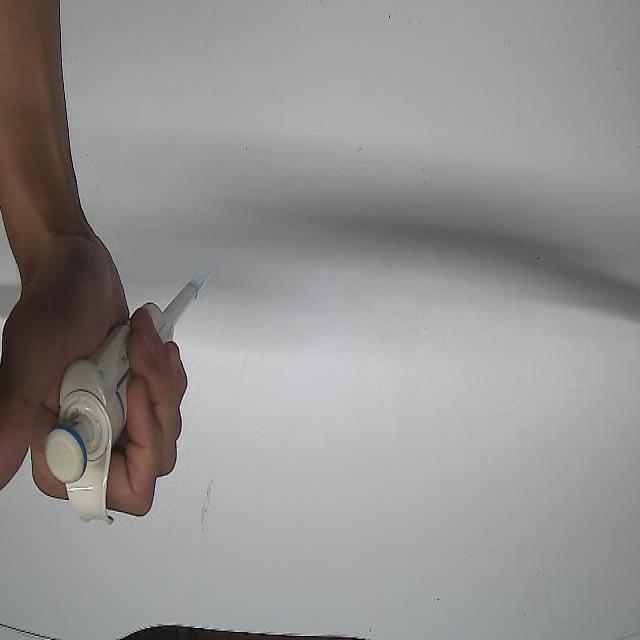Single Channel Pipettor: (43, 271, 205, 526)
